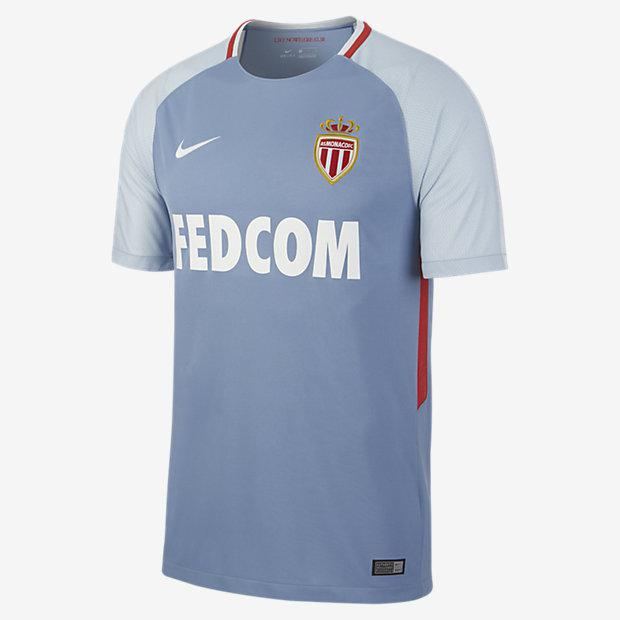teeshirt: (107, 7, 528, 619)
